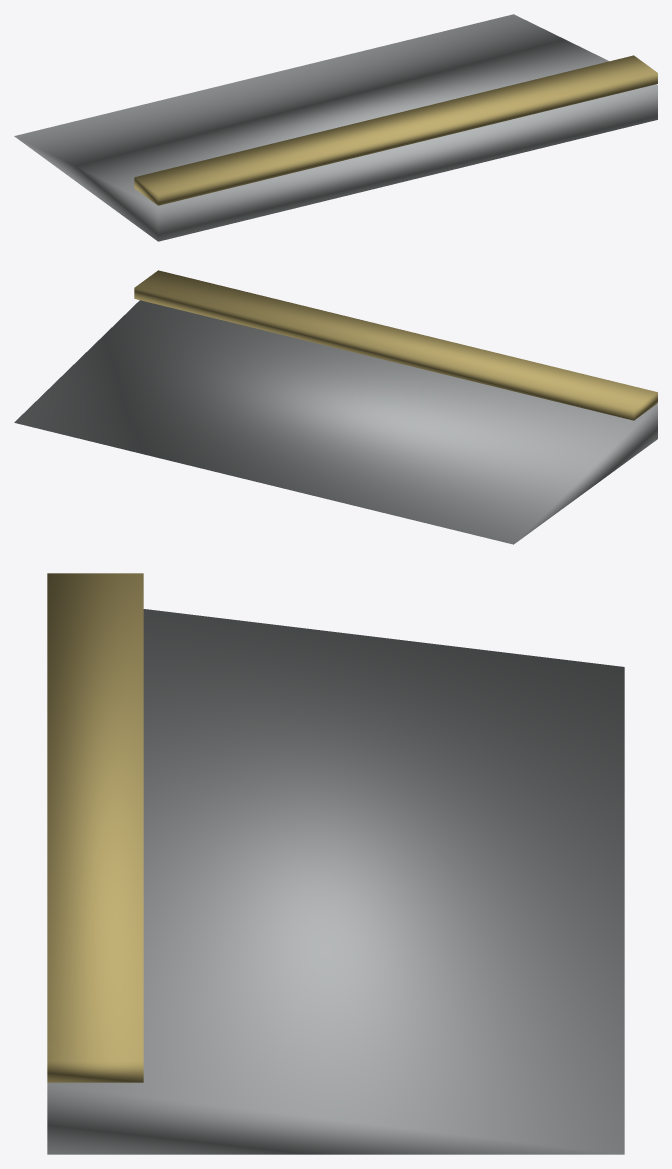
The model's file is curb_ramp_yellow_w120_h8_r60.glb.
3 views of the same model, one above another, from view 1: azimuth 30°, elevation 25°; view 2: azimuth 150°, elevation 25°; view 3: azimuth 270°, elevation 25° (orthographic). The views are drawn at different scales.
Parts seen in each view (by area): view 1: world; view 2: world; view 3: world.
Part boxes in pixels (x1,y1,x2,y2): world: (14,14,657,241); world: (14,270,657,544); world: (47,573,624,1154).
Bounding box in the file's own units: 1.2 × 0.1075 × 0.6.
